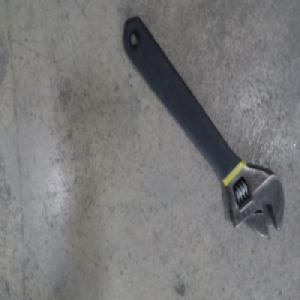AdjustableWrench: (122, 18, 284, 237)
